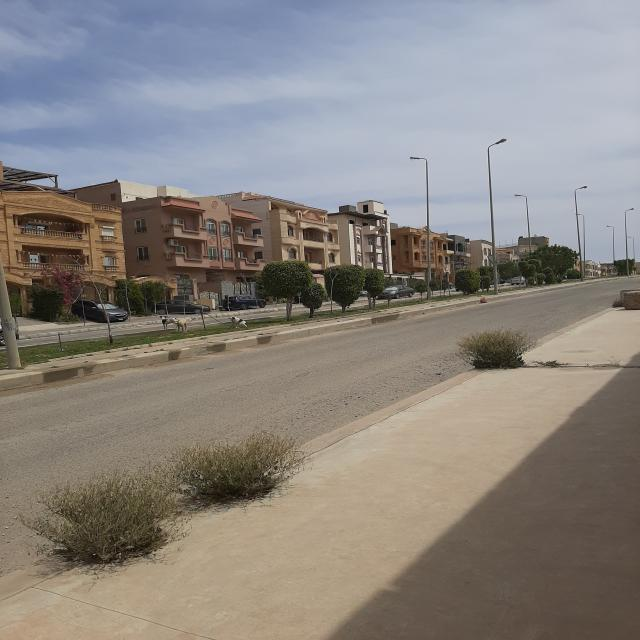Street Light: (408, 156, 432, 299), (487, 139, 508, 292), (513, 194, 532, 280), (574, 186, 588, 282), (575, 214, 586, 278), (624, 207, 634, 277), (606, 225, 615, 274), (627, 236, 635, 274)
